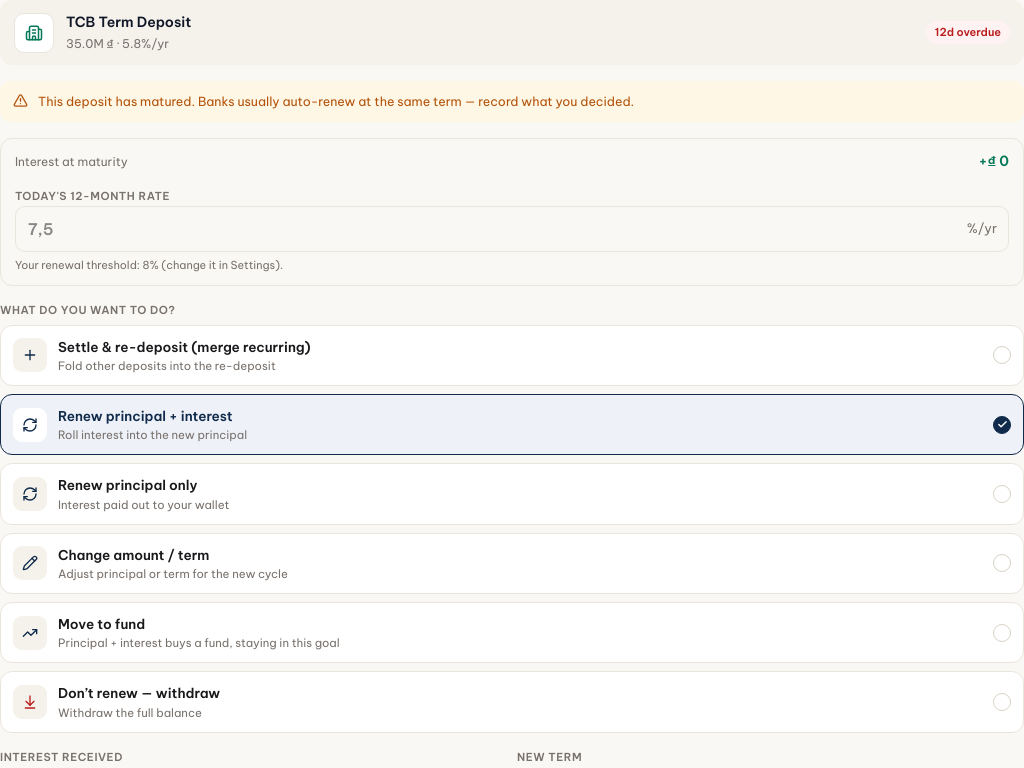
Test case: MaturityResolveBody › merge eligibility › hard-blocks a different-currency sibling with no override
Click the button "Settle & re-deposit" at [30, 355], box [0, 325, 1023, 386]
(page scrolled)
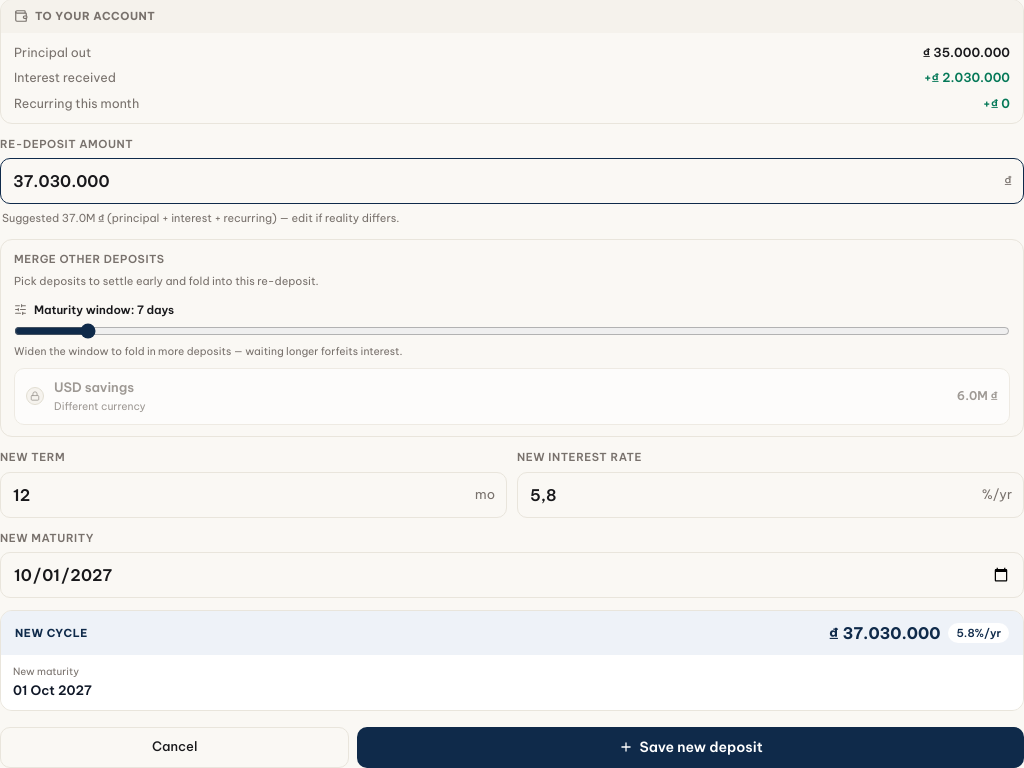
Check: the element with test id "merge-source-sib-usd" shows "currency", box [54, 399, 146, 413]
